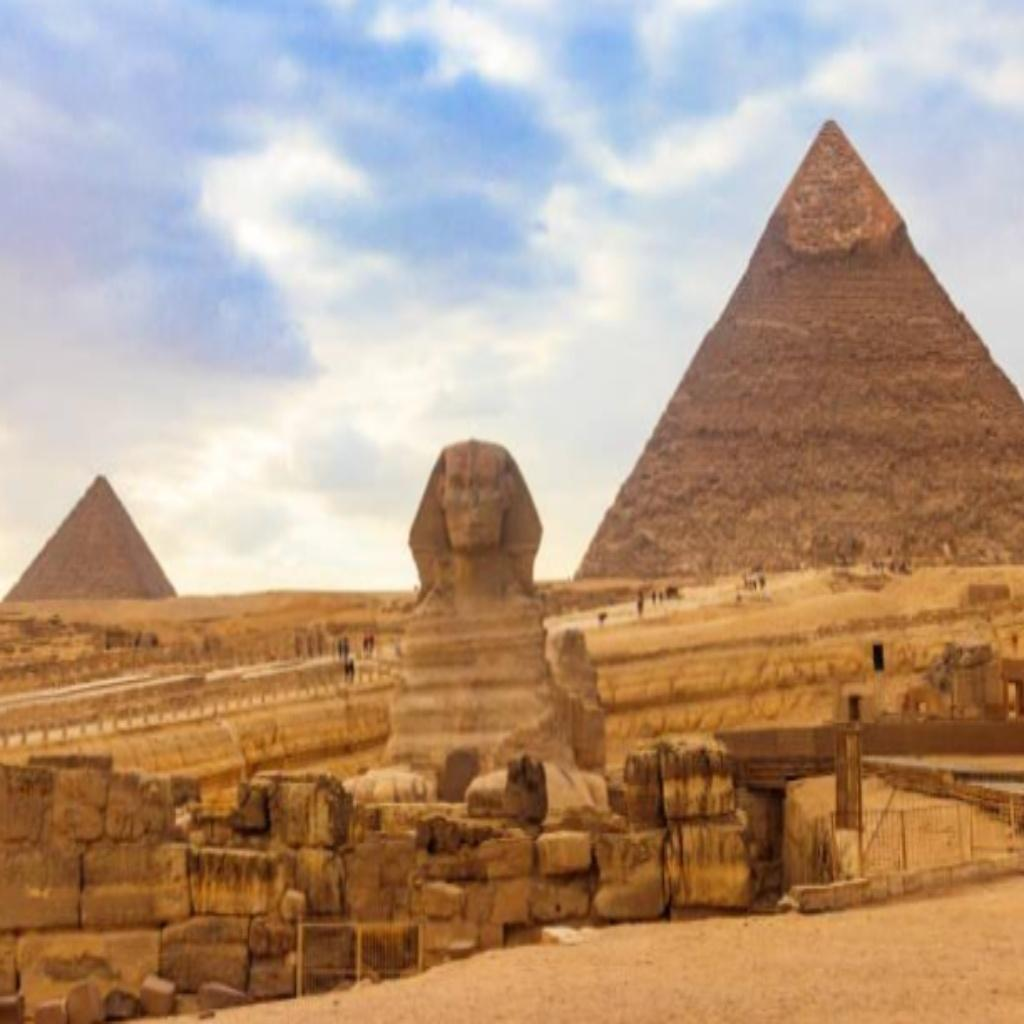Sphinx: (366, 432, 584, 798)
